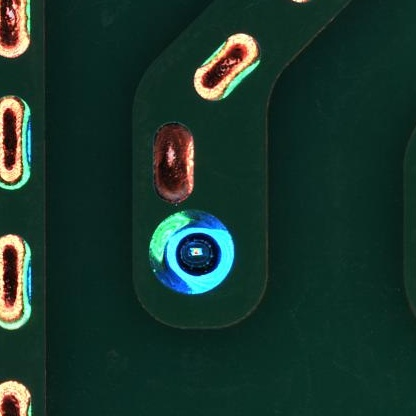spot: (148, 210, 235, 299)
